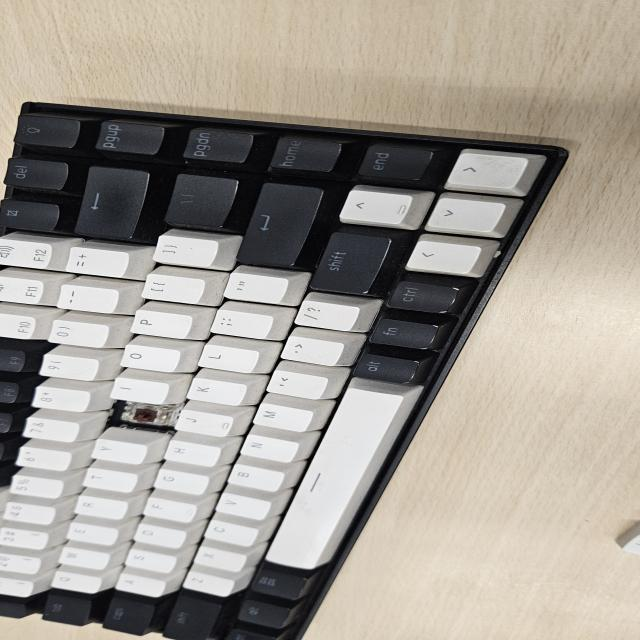C: (114, 403, 170, 432)
